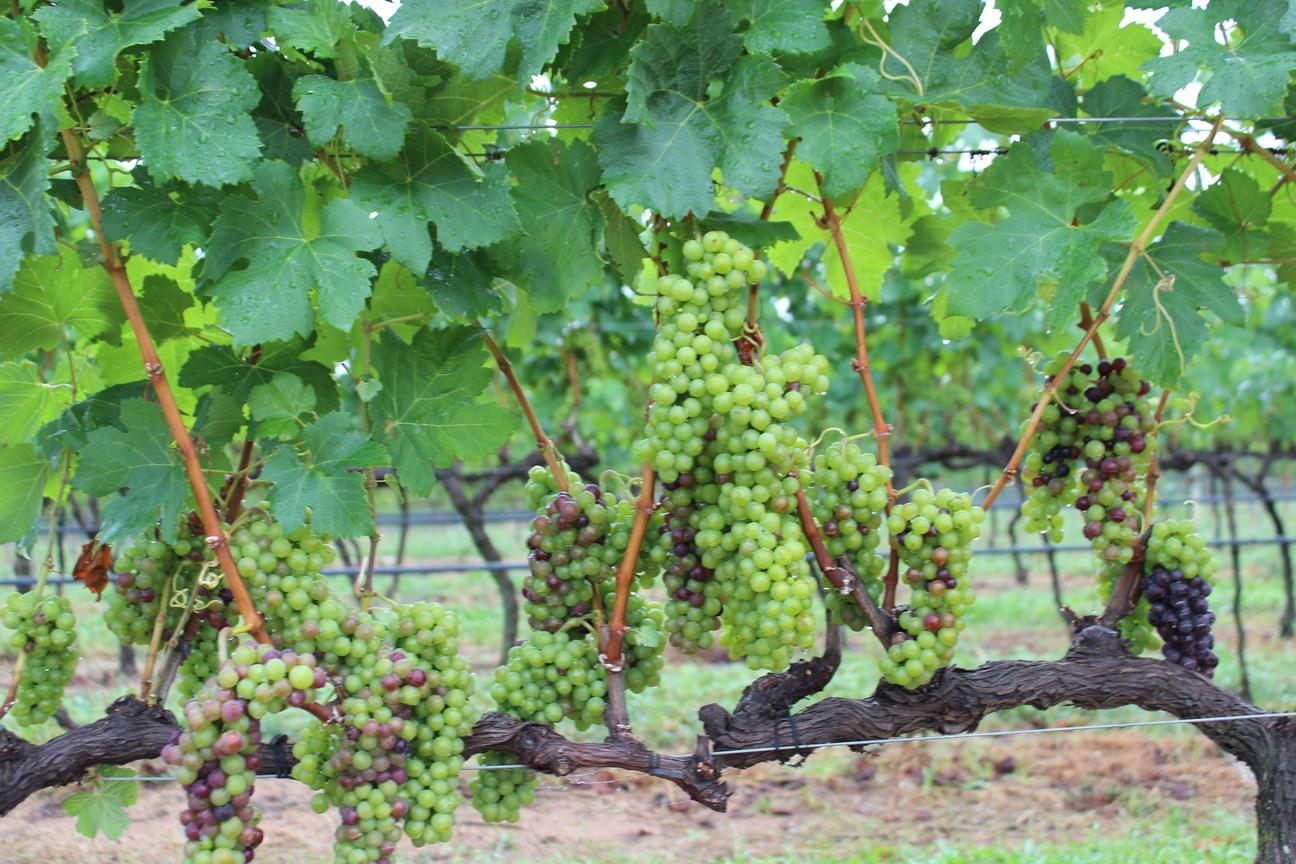leaf: (946, 129, 1135, 325), (203, 162, 380, 344), (371, 325, 515, 495), (350, 129, 521, 271), (1115, 221, 1242, 386), (131, 28, 261, 184), (488, 139, 602, 310), (386, 0, 603, 83), (1141, 0, 1295, 116), (72, 399, 191, 541), (778, 63, 896, 194), (261, 411, 386, 534), (32, 0, 199, 86), (0, 251, 123, 356), (178, 336, 337, 411), (103, 168, 223, 264), (293, 75, 411, 160), (0, 124, 56, 294), (0, 17, 69, 141), (1192, 167, 1271, 263), (0, 361, 68, 444), (63, 765, 137, 838), (267, 0, 355, 58), (735, 1, 828, 52), (0, 442, 47, 541), (249, 372, 315, 436), (546, 225, 547, 226)
